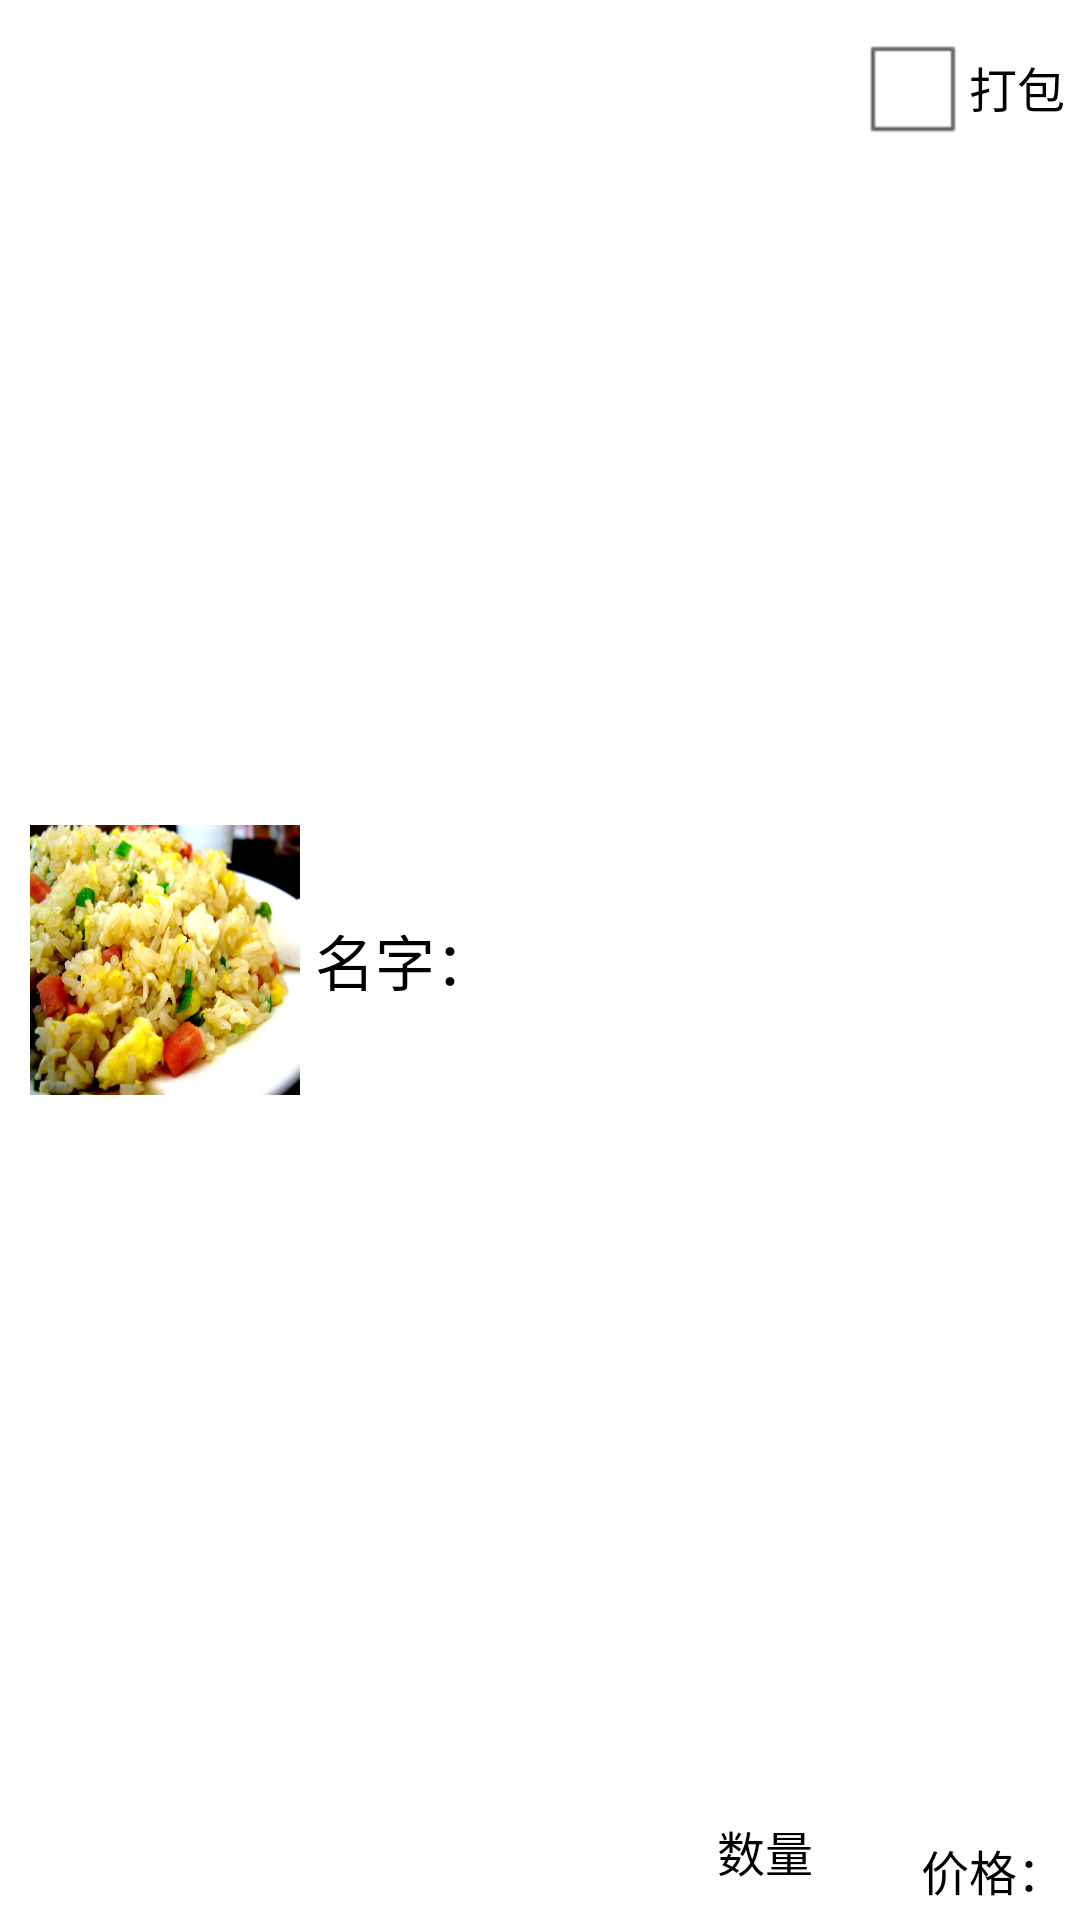

Point at icon controls on the screen. Image size 1080px x 1920px, points as point (x, y).
danchaofan: point (165, 960)
